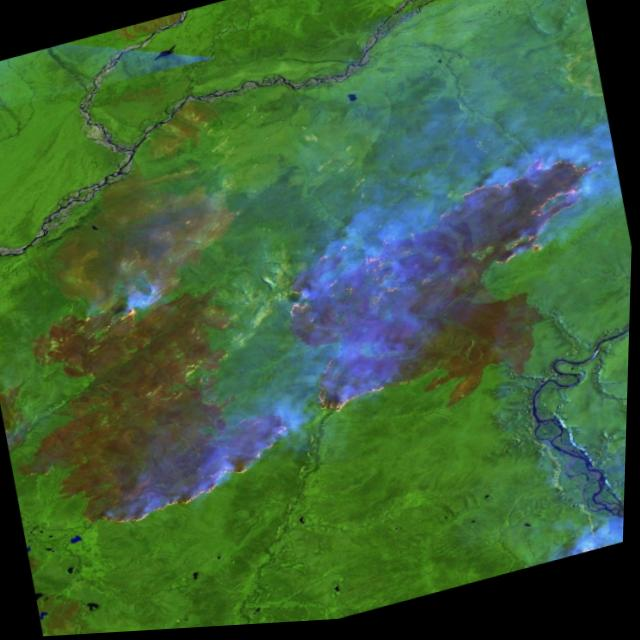fire: (264, 140, 636, 430), (74, 403, 307, 545), (91, 292, 160, 345)
